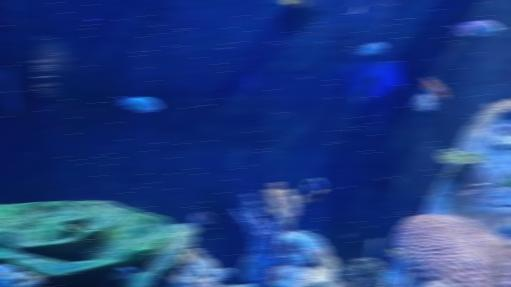Fish: (451, 20, 500, 36), (296, 178, 325, 205), (119, 97, 160, 112), (422, 77, 447, 100), (353, 42, 386, 55), (414, 92, 435, 110), (192, 211, 213, 225), (367, 238, 378, 258), (284, 0, 308, 8)
